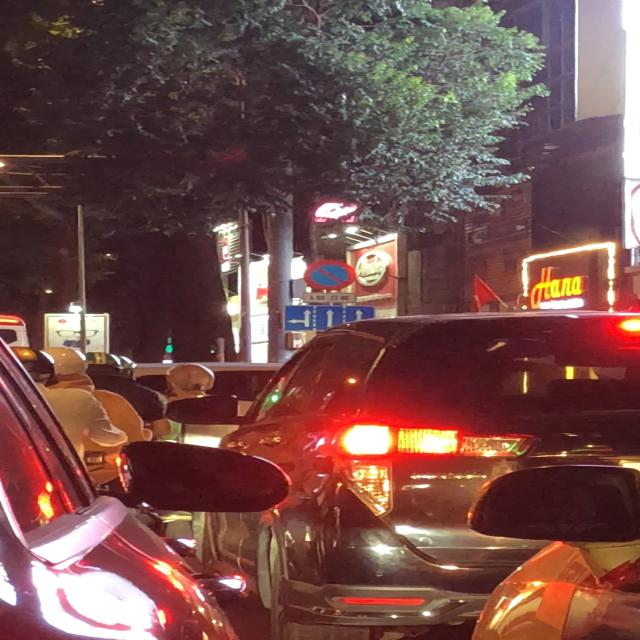Bien bao cam do xe: (300, 258, 363, 292)
